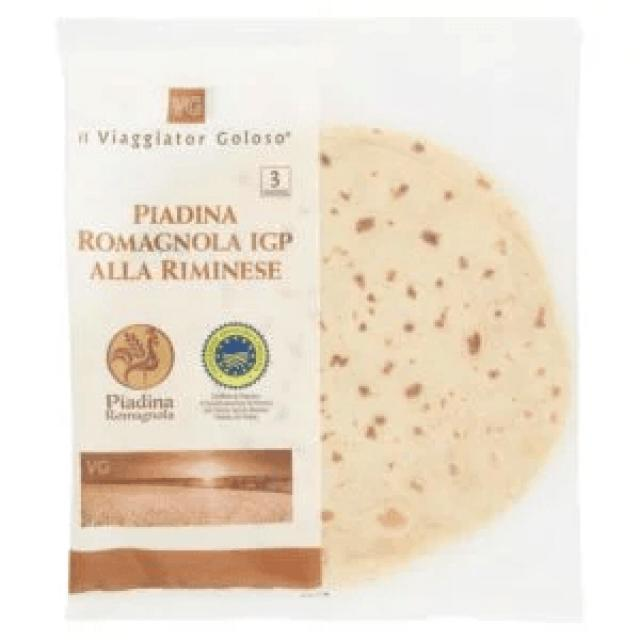bread: (60, 21, 580, 619)
